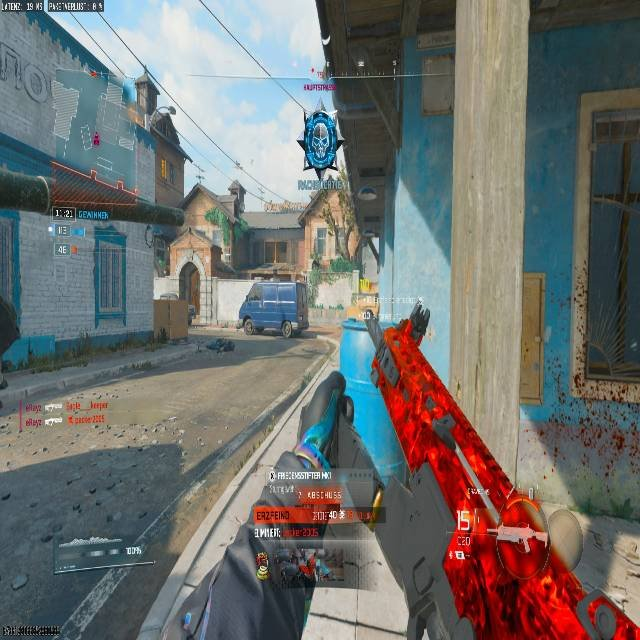player: (163, 182, 224, 277), (186, 304, 195, 325)
